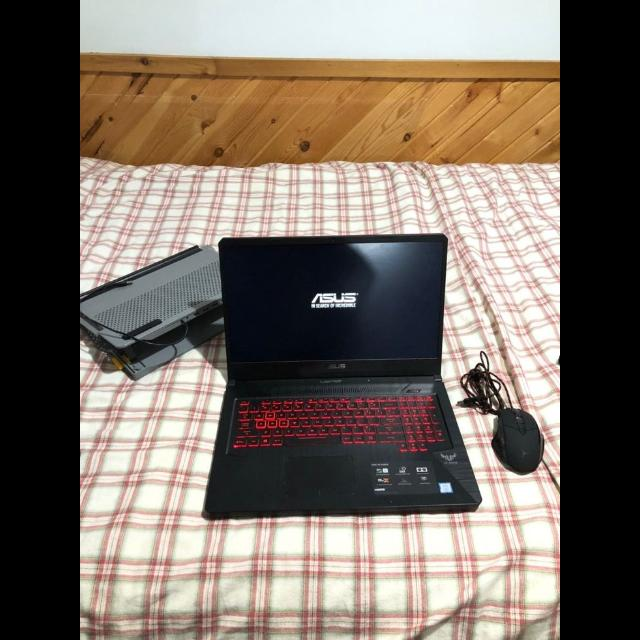laptop: (205, 234, 482, 517)
